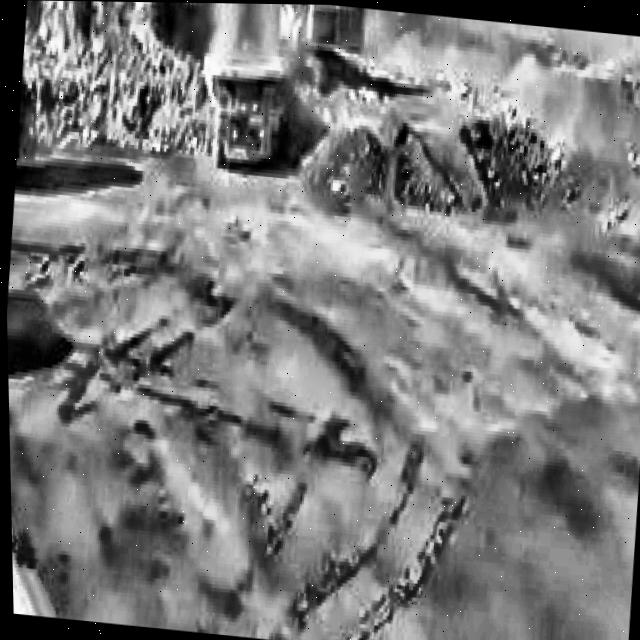dump_truck: (194, 47, 285, 168)
excavator: (170, 2, 366, 53)
